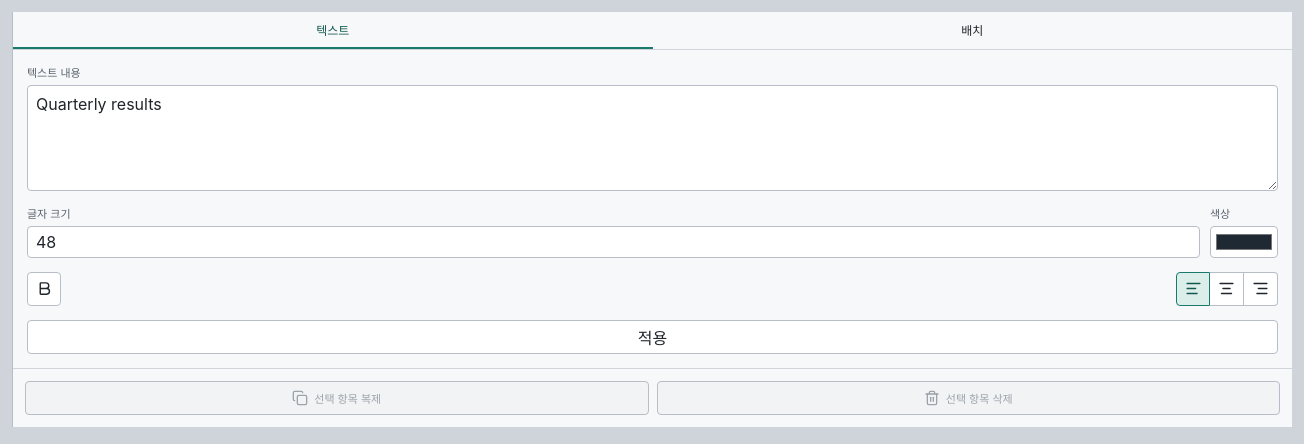
it: Inspector › rejects invalid font size draft
Clear the number field labelled "글자 크기": x=614, y=242 [27,226,1200,258]
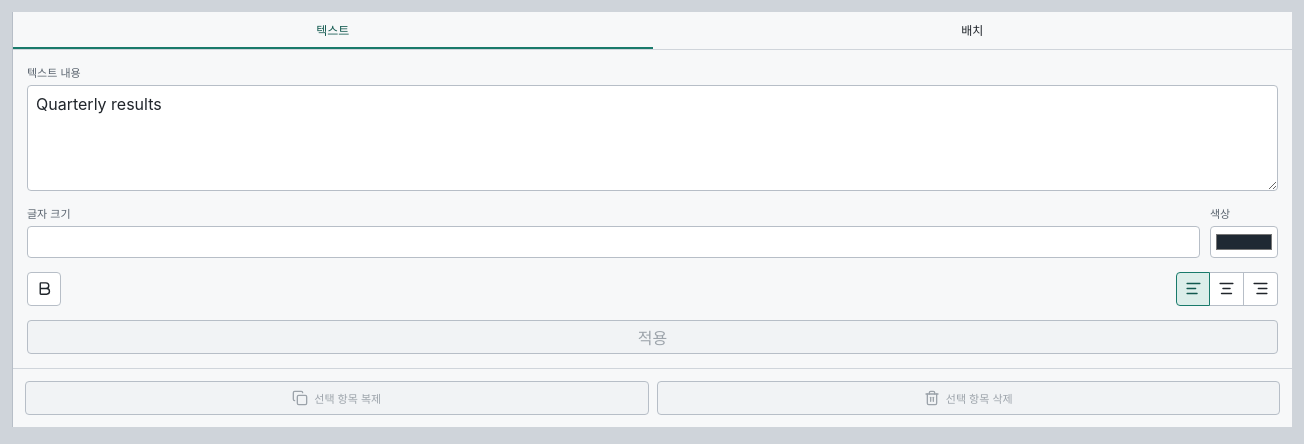
expect the button "적용" is disabled: met, box [27,320,1278,354]
